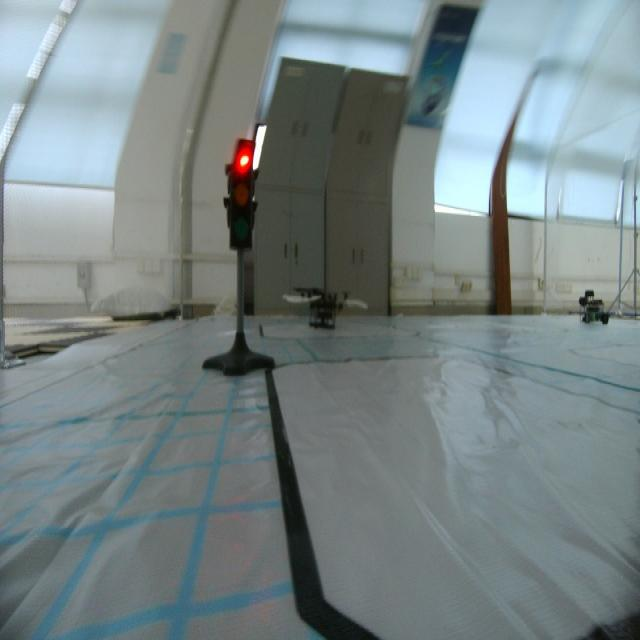red: (225, 131, 259, 257)
